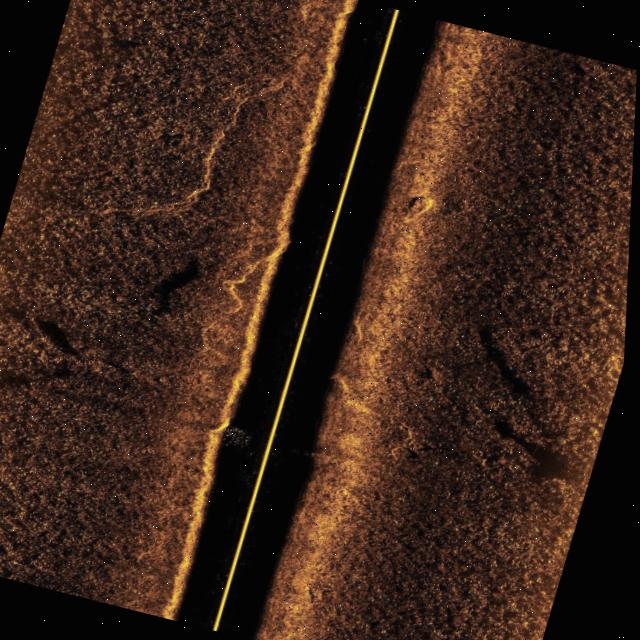other: (400, 186, 439, 232)
